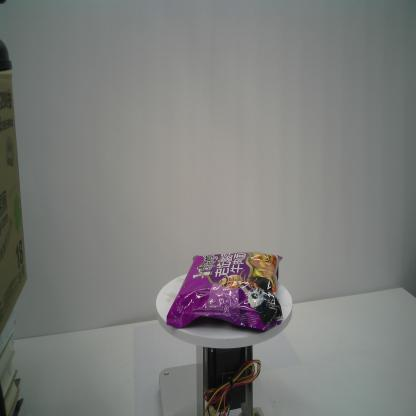Instant Noodles: (166, 249, 284, 332)
